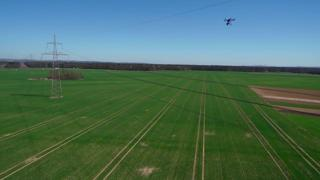UAV: (223, 18, 236, 26)
